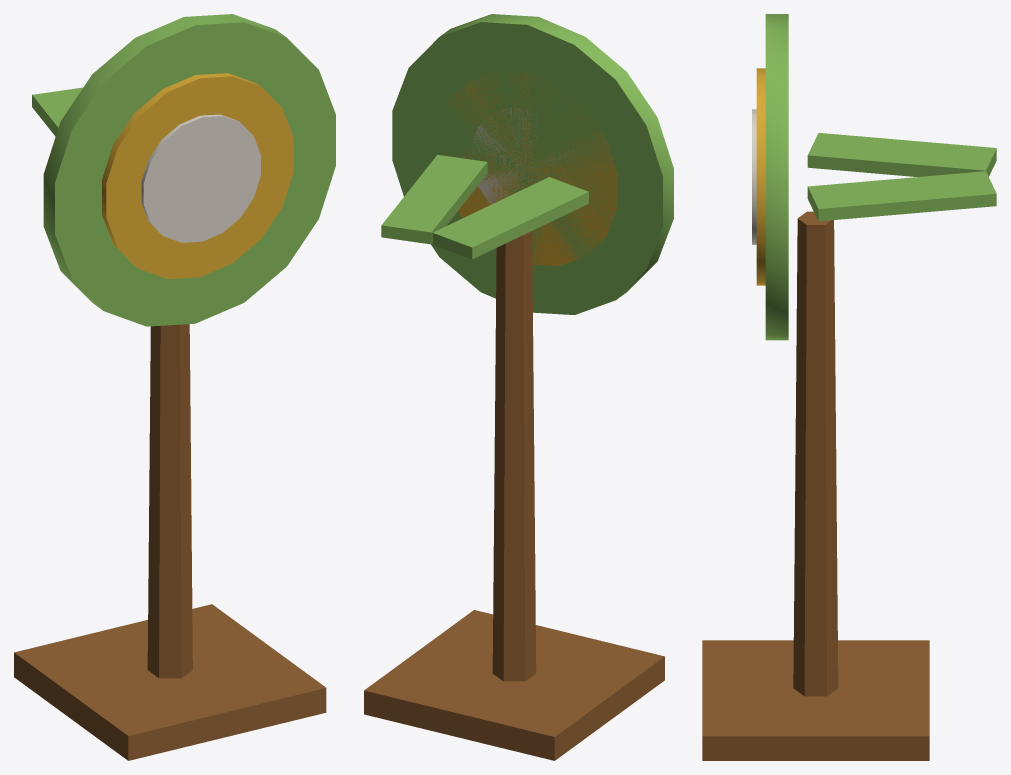
The model's file is hamper_rosette.glb.
3 renders of one model, left to right at view 1: azimuth 30°, elevation 25°; view 2: azimuth 150°, elevation 25°; view 3: azimuth 270°, elevation 25°, orthographic. The views are drawn at different scales.
Visible parts, largest first — view 1: decor-hamper_rosette; view 2: decor-hamper_rosette; view 3: decor-hamper_rosette.
Part boxes in pixels (box(x1,y1,x2,y2)): decor-hamper_rosette: box(14, 14, 335, 760); decor-hamper_rosette: box(364, 14, 673, 760); decor-hamper_rosette: box(702, 14, 996, 760).
Size of the model in its own units: 0.7091 by 1.66 by 0.6479.
